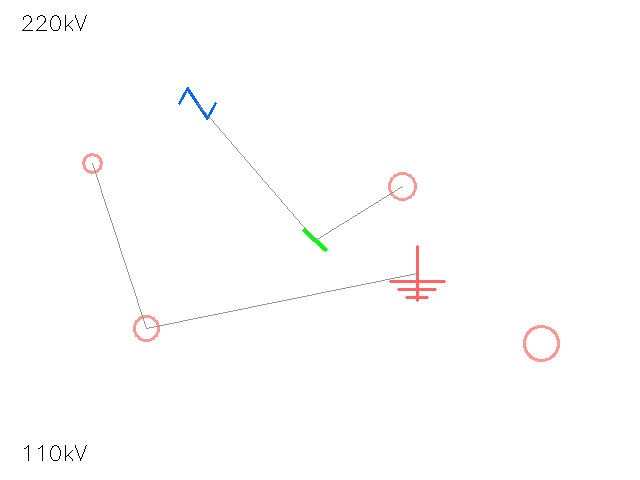busbar: (297, 222, 333, 258)
circuit_breaker: (179, 85, 215, 121)
current_transformer: (73, 144, 111, 182)
disconnect_switch: (376, 160, 428, 212)
fuse: (122, 304, 170, 352)
ground: (390, 246, 444, 300)
load_break_switch: (507, 309, 575, 377)
